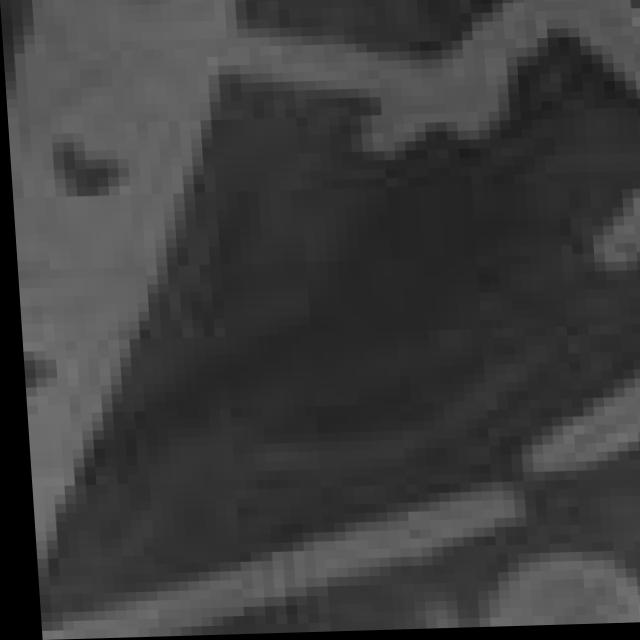fracture: (30, 0, 640, 640)
